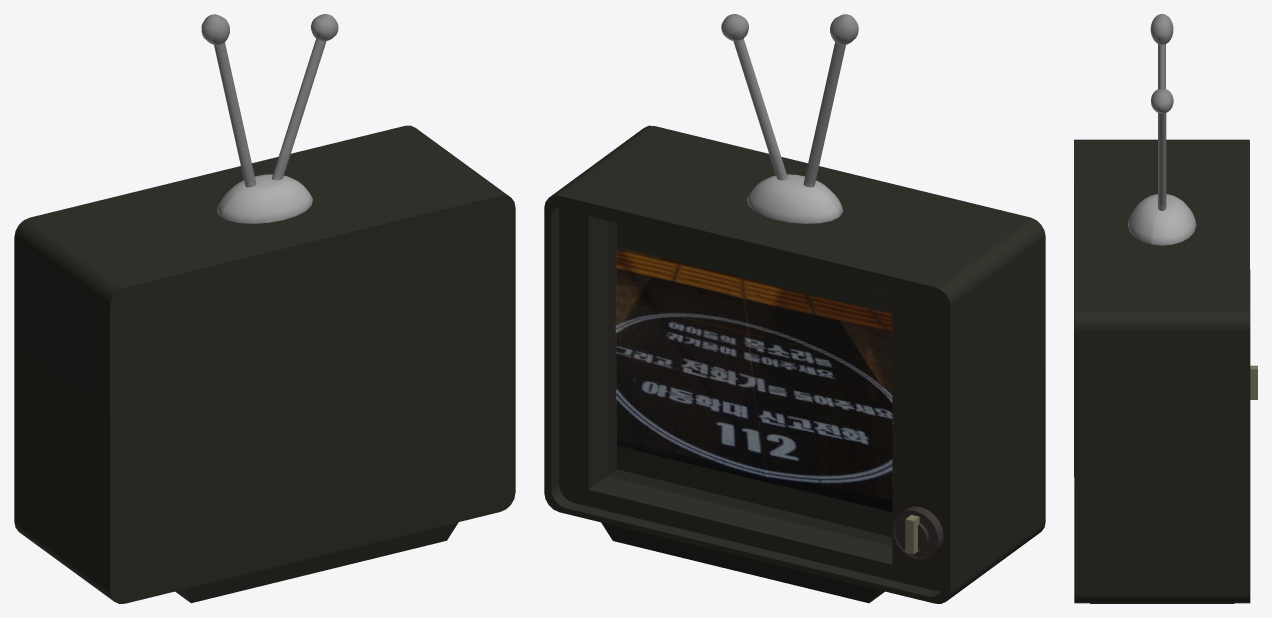
The picture shows the model from 3 angles, left to right: view 1: azimuth 30°, elevation 25°; view 2: azimuth 150°, elevation 25°; view 3: azimuth 270°, elevation 25°; orthographic projection. The views are drawn at different scales.
Parts seen in each view (by area): view 1: television1:pCube3; view 2: television1:pCube3; view 3: television1:pCube3.
Part boxes in pixels (x1,y1,x2,y2): television1:pCube3: (14, 14, 515, 603); television1:pCube3: (544, 14, 1045, 603); television1:pCube3: (1074, 14, 1257, 603).
Bounding box in the file's own units: 12.1 × 15.5 × 5.15.
5 materials, 1 textured.
